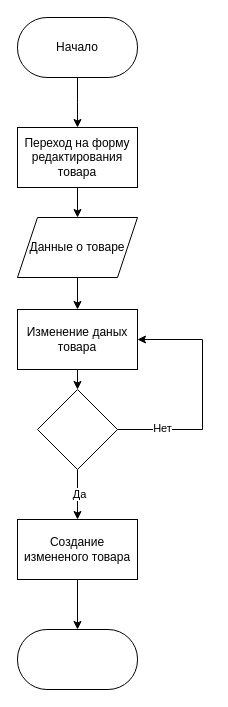
This 228x707 diagram has some shape labels left out. The centre of each missing label's shape, as x and y in pixels:
Валидация: (77,429)
Конец: (77,659)
